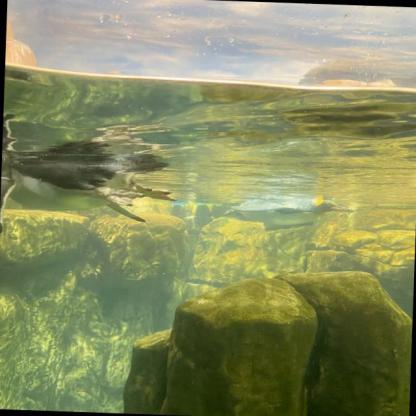penguin: (0, 138, 179, 240), (223, 194, 354, 232)
